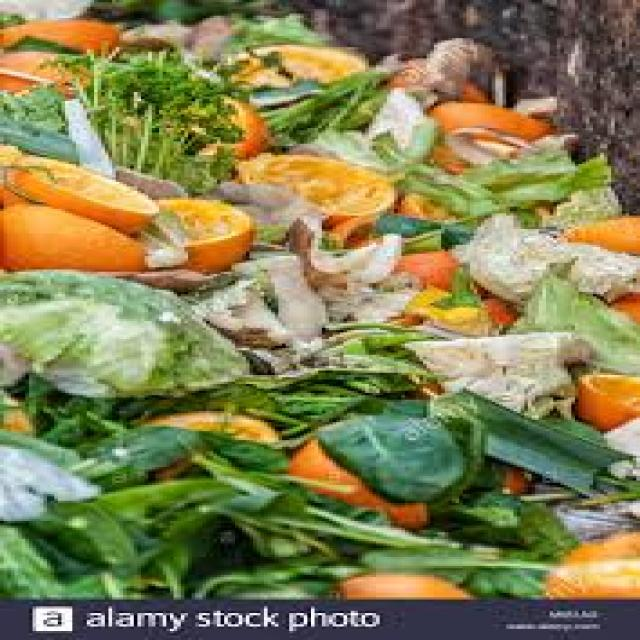food_waste: (63, 35, 602, 565)
